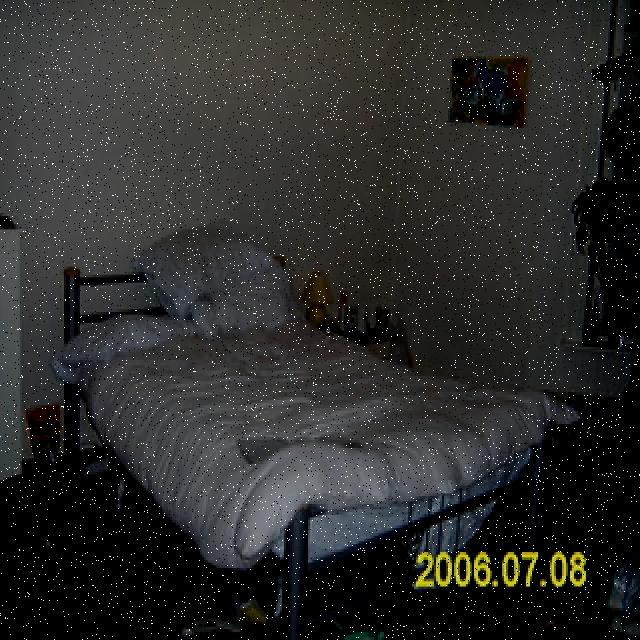bed: (53, 247, 563, 640)
